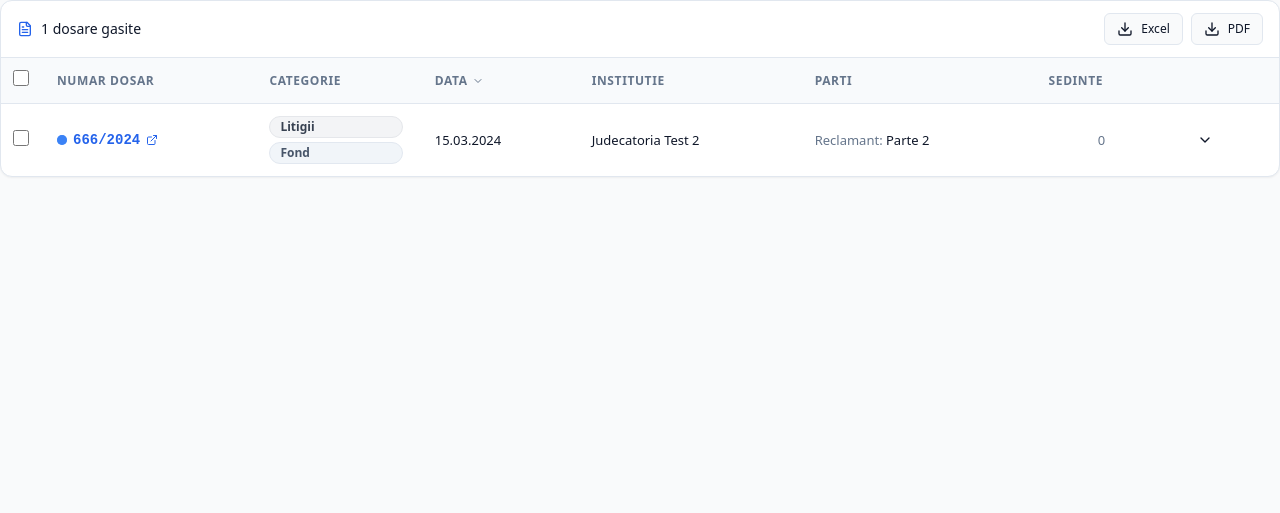
Test: DosareTable — characterization (handlers + side effects) › monitor: job existent (created_at > 5s in trecut) → 'Deja monitorizat'
Click the row that starts with "Litigii": point(640, 140) [1,104,1279,176]
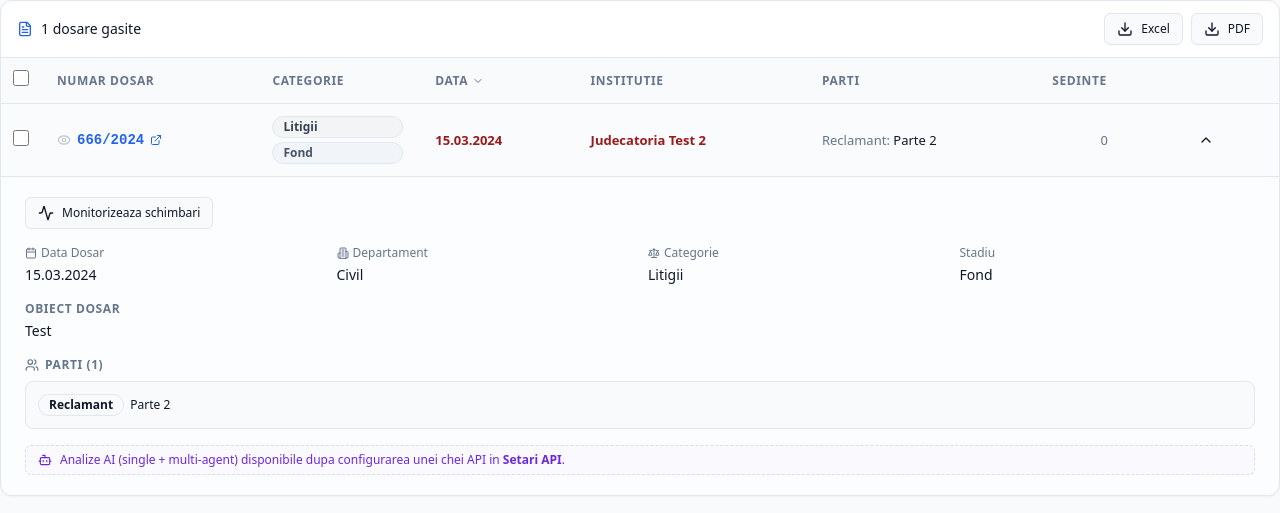
Click the button "Monitorizeaza schimbari": point(119, 213) [25,197,213,229]
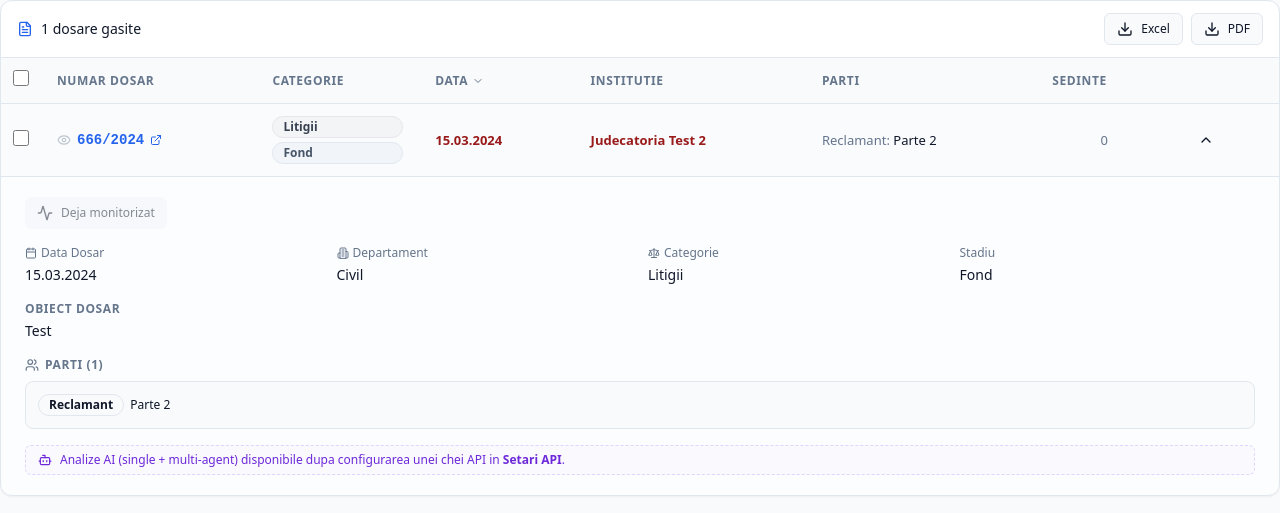
expect the text "Deja monitorizat" is shown: met, box [25,197,167,229]
